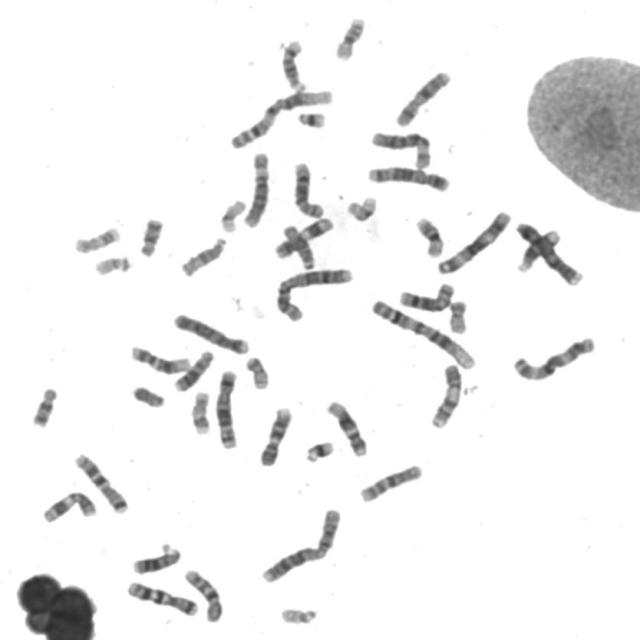A1: (368, 296, 477, 371), (225, 85, 335, 151)
A2: (258, 504, 344, 585), (272, 264, 356, 323)
A3: (434, 206, 514, 276), (508, 332, 598, 383)
B4: (512, 217, 586, 288), (170, 309, 252, 356)
B5: (364, 162, 452, 194), (212, 366, 241, 450)
C10: (356, 460, 425, 504), (181, 565, 226, 624)
C11: (272, 214, 336, 260), (39, 487, 99, 525)
C12: (323, 397, 370, 458), (128, 342, 194, 376)
C6: (368, 127, 434, 171), (239, 148, 273, 229)
C7: (71, 450, 131, 516), (124, 578, 200, 618)
C8: (289, 158, 326, 220), (396, 279, 458, 313)
C9: (427, 360, 465, 430), (256, 403, 295, 467)
D13: (171, 346, 216, 393), (129, 542, 183, 576)
D14: (514, 226, 563, 274), (278, 35, 309, 93)
D15: (177, 233, 229, 278), (280, 222, 317, 271)
E16: (330, 12, 368, 62), (412, 213, 447, 260)
E17: (70, 223, 122, 255), (188, 388, 213, 436)
E18: (28, 383, 61, 429), (136, 213, 166, 258)
F19: (217, 196, 249, 234), (343, 192, 379, 223)
F20: (242, 353, 272, 391), (446, 296, 470, 335)
G21: (301, 437, 337, 464), (293, 107, 329, 129)
G22: (92, 251, 134, 277), (277, 603, 320, 626)
X: (392, 67, 454, 128)
Y: (129, 382, 167, 409)
